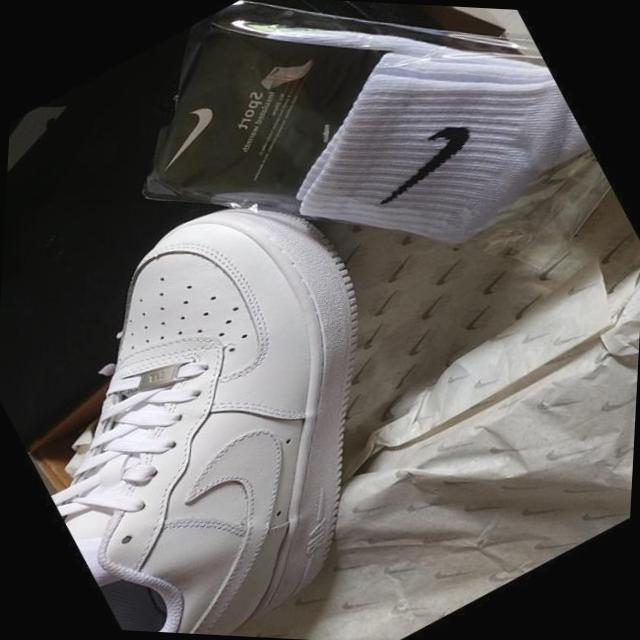nike_fake_airforce: (0, 141, 499, 640)
